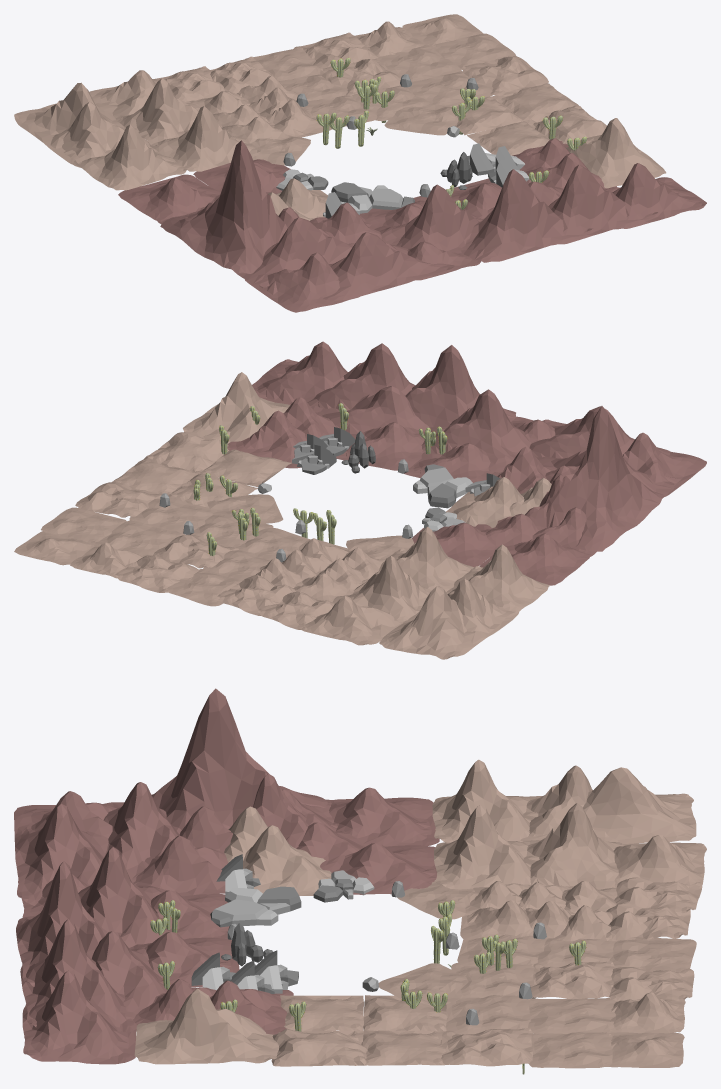
File: environment02.gltf
3 views of the same model, one above another, from view 1: azimuth 30°, elevation 25°; view 2: azimuth 150°, elevation 25°; view 3: azimuth 270°, elevation 25° (orthographic). The views are drawn at different scales.
Visible parts, largest first — view 1: Ground_02 (15), Ground_02 (23), Ground_02 (25), Ground_02 (22), Ground_02 (24), Ground_02 (7), Ground_02 (17), Ground_02 (31), Ground_02 (35), Ground_02 (26), Ground_02 (16), Ground_02 (14) (+43 smaller); view 2: Ground_02 (15), Ground_02 (37), Ground_02 (24), Ground_02 (23), Ground_02 (17), Ground_02 (16), Ground_02 (22), Ground_02 (7), Ground_02 (12), Ground_02 (21), Ground_02 (33), Ground_02 (35) (+48 smaller); view 3: Ground_02 (15), Ground_02 (16), Ground_02 (17), Ground_02 (37), Ground_02 (25), Ground_02 (12), Ground_02 (35), Ground_02 (14), Ground_02 (22), Ground_02 (24), Ground_02 (7), Ground_02 (23) (+50 smaller).
Part boxes in pixels (bbox=[...]): Ground_02 (15): bbox=[160, 140, 288, 273]; Ground_02 (23): bbox=[461, 169, 593, 262]; Ground_02 (25): bbox=[323, 232, 454, 301]; Ground_02 (22): bbox=[548, 165, 657, 245]; Ground_02 (24): bbox=[374, 184, 483, 252]; Ground_02 (7): bbox=[74, 124, 187, 190]; Ground_02 (17): bbox=[612, 163, 706, 229]; Ground_02 (31): bbox=[234, 217, 355, 286]; Ground_02 (35): bbox=[148, 106, 260, 171]; Ground_02 (26): bbox=[244, 252, 359, 312]; Ground_02 (16): bbox=[566, 118, 666, 188]; Ground_02 (14): bbox=[118, 174, 220, 221]; Ground_02 (15): bbox=[542, 406, 664, 551]; Ground_02 (37): bbox=[379, 586, 518, 659]; Ground_02 (24): bbox=[421, 389, 531, 472]; Ground_02 (23): bbox=[405, 345, 515, 428]; Ground_02 (17): bbox=[252, 341, 348, 412]; Ground_02 (16): bbox=[183, 372, 290, 443]; Ground_02 (22): bbox=[290, 343, 415, 410]; Ground_02 (7): bbox=[446, 544, 549, 617]; Ground_02 (12): bbox=[332, 556, 431, 621]; Ground_02 (21): bbox=[297, 596, 403, 645]; Ground_02 (33): bbox=[317, 386, 429, 440]; Ground_02 (35): bbox=[362, 526, 473, 591]; Ground_02 (15): bbox=[151, 688, 327, 834]; Ground_02 (16): bbox=[134, 988, 278, 1064]; Ground_02 (17): bbox=[22, 970, 135, 1064]; Ground_02 (37): bbox=[520, 767, 696, 843]; Ground_02 (25): bbox=[15, 803, 108, 905]; Ground_02 (12): bbox=[517, 803, 623, 889]; Ground_02 (35): bbox=[434, 805, 531, 889]; Ground_02 (14): bbox=[329, 787, 439, 846]; Ground_02 (22): bbox=[20, 919, 136, 1032]; Ground_02 (24): bbox=[78, 847, 178, 947]; Ground_02 (7): bbox=[432, 759, 530, 842]; Ground_02 (23): bbox=[16, 861, 107, 986].
Bounding box in the file's own units: 0.6809 × 0.1767 × 0.7321.
11 materials, 7 textured.
